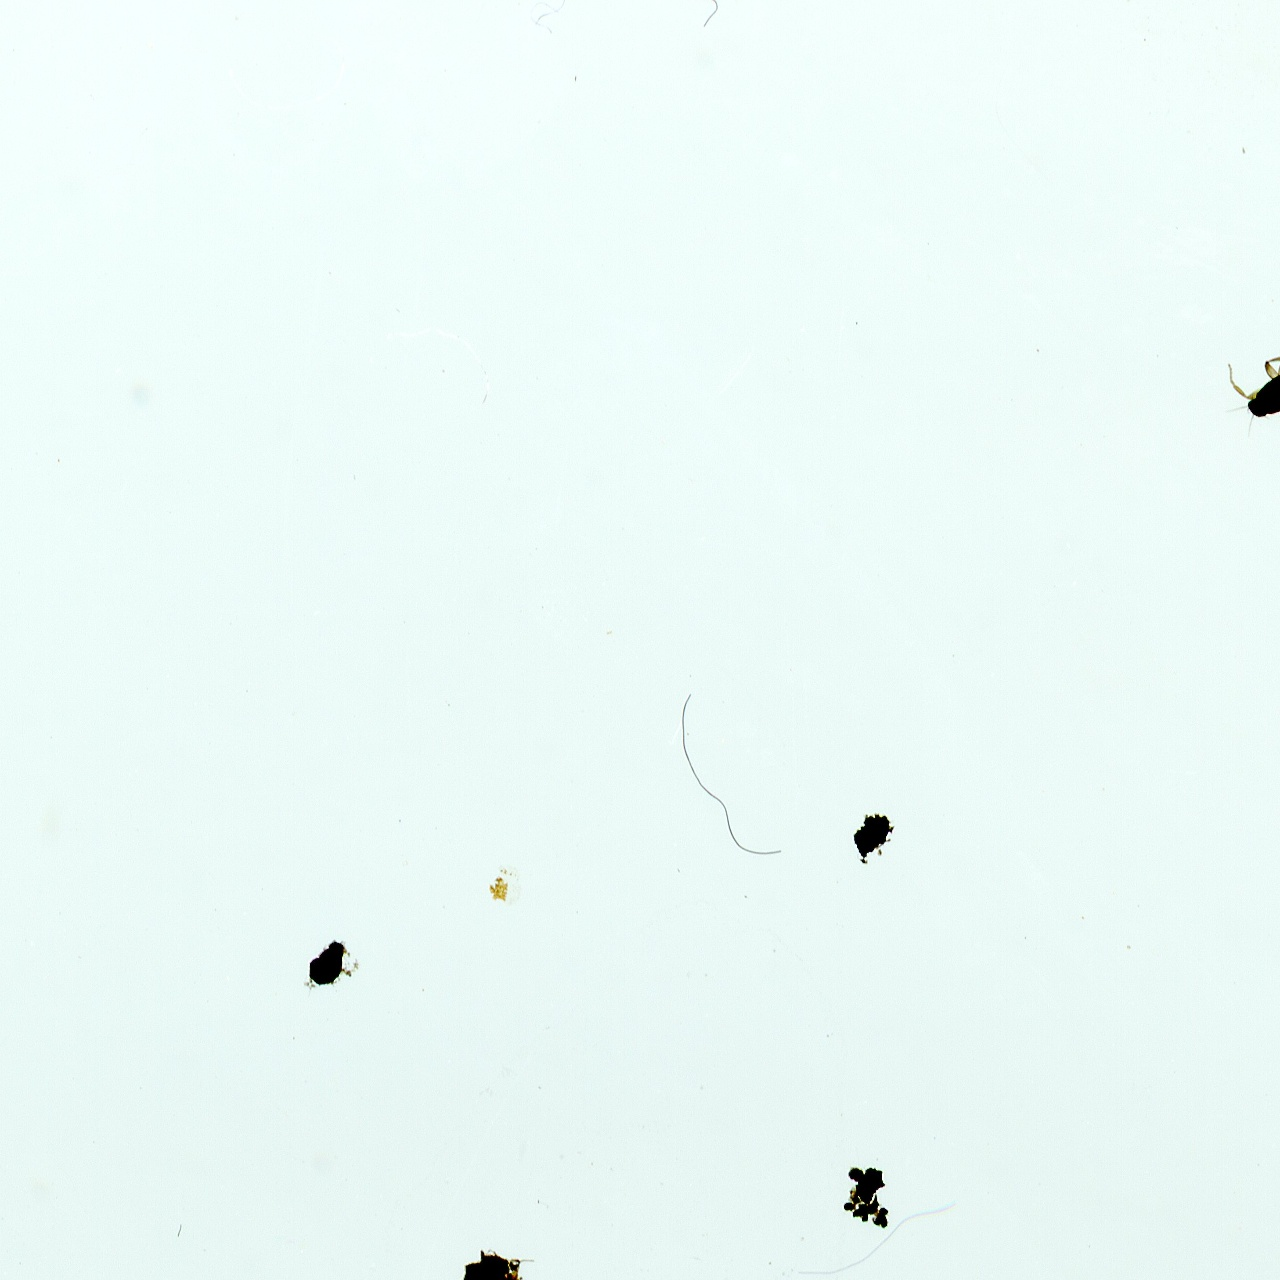arthropod: (1197, 315, 1280, 478)
